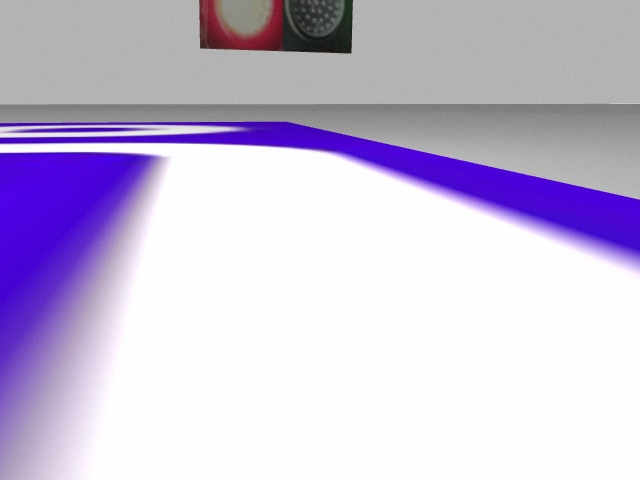red: (200, 3, 283, 52)
